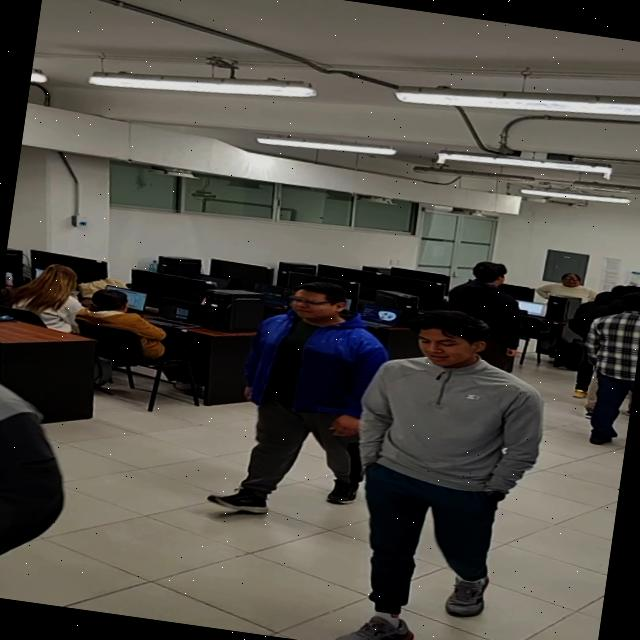Persona: (316, 296, 557, 640), (210, 266, 386, 530), (0, 309, 101, 607), (570, 284, 640, 447), (444, 248, 534, 371)
